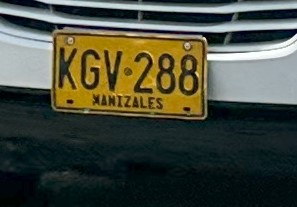number plate: (0, 0, 296, 104), (51, 29, 206, 119)
